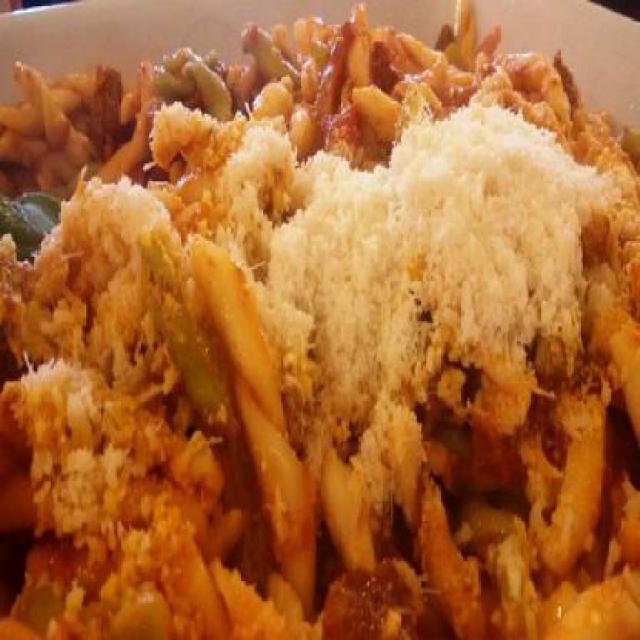Pasta al ragu: (14, 37, 630, 614)
